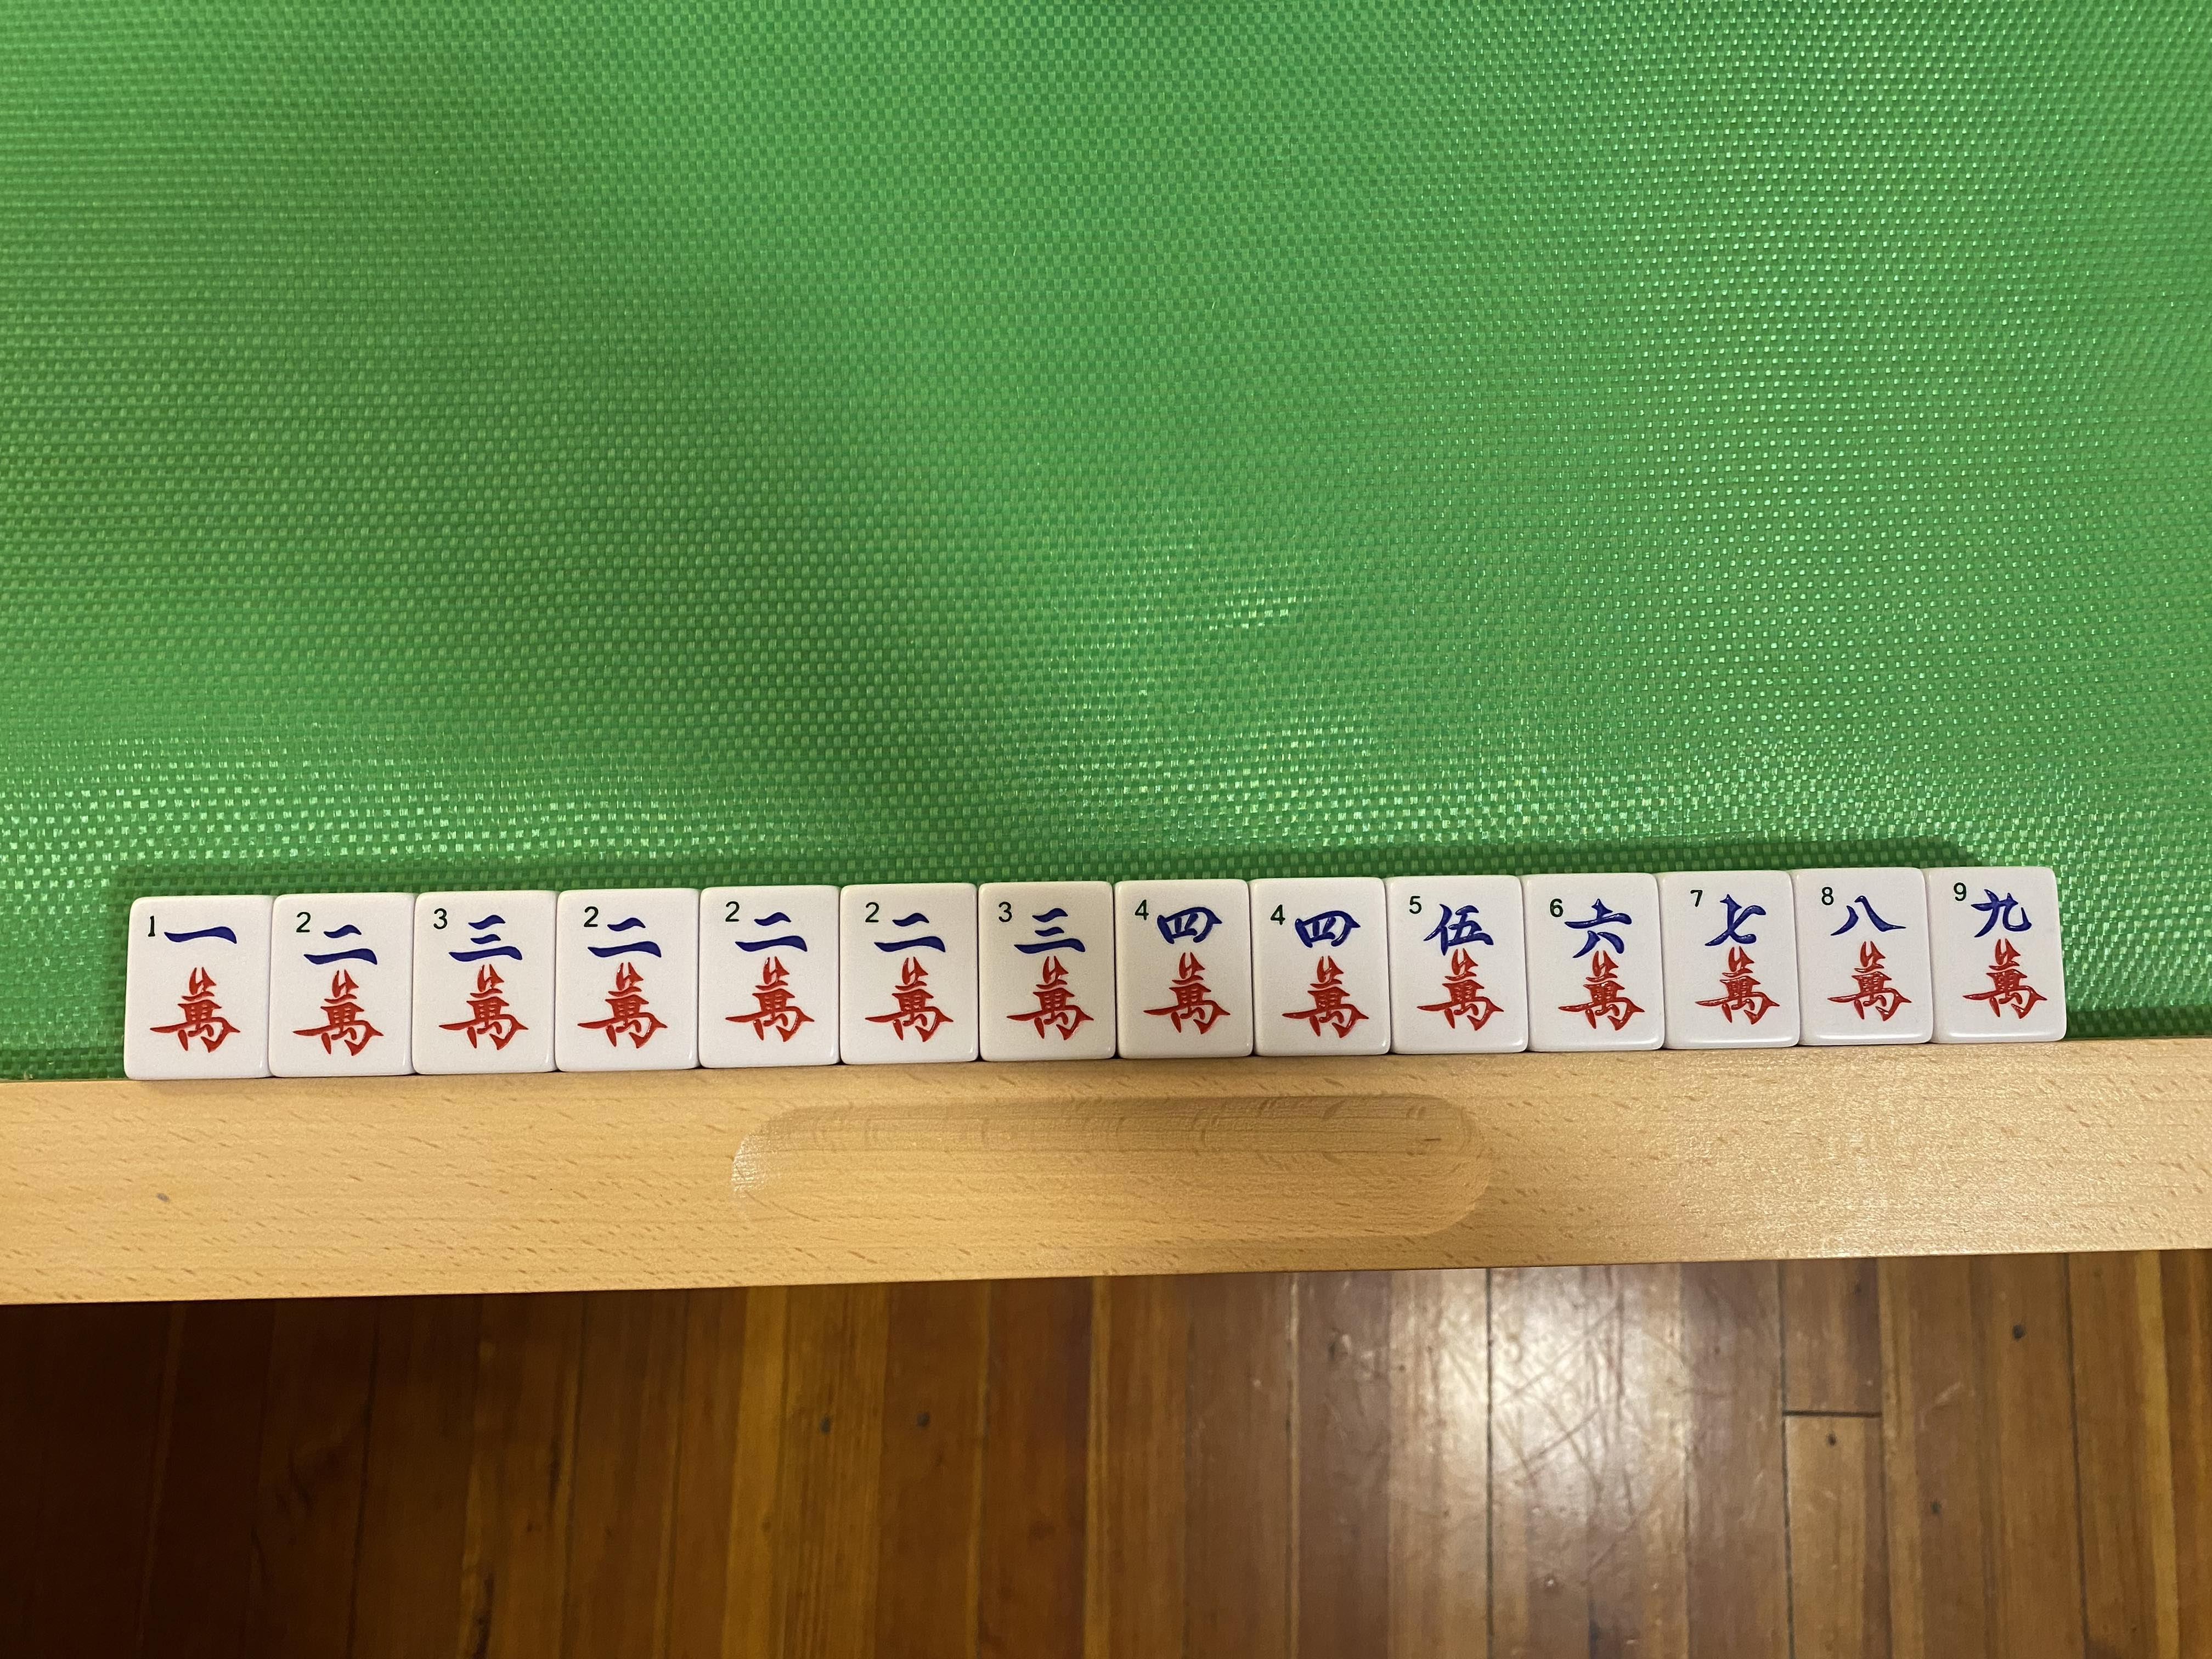character-eight: (1803, 873, 1926, 1044)
character-five: (1393, 878, 1521, 1053)
character-four: (1120, 882, 1249, 1058), (1256, 880, 1385, 1054)
character-nine: (1935, 870, 2057, 1042)
character-one: (129, 897, 266, 1075)
character-seven: (1667, 873, 1794, 1047)
character-six: (1531, 875, 1658, 1051)
character-three: (416, 894, 556, 1075), (979, 885, 1111, 1060)
character-two: (270, 896, 413, 1073), (557, 892, 698, 1072), (702, 889, 836, 1068), (841, 885, 975, 1061)
